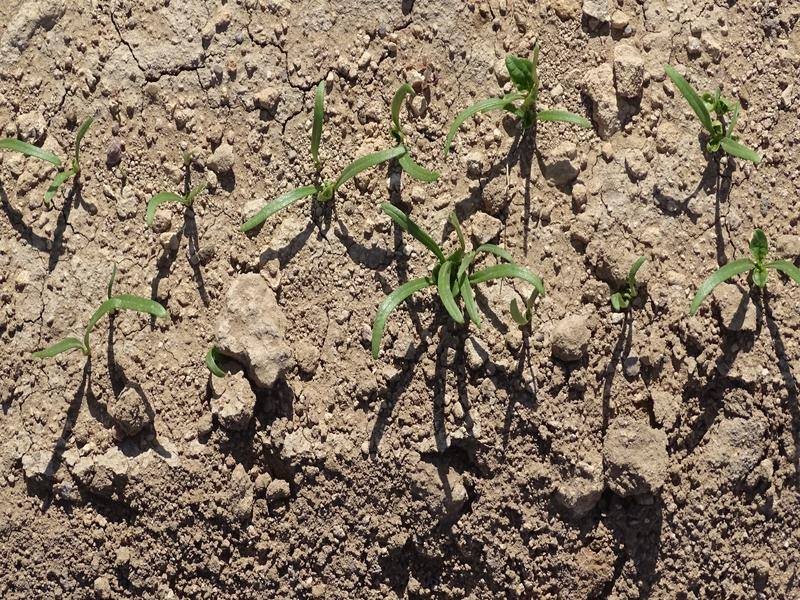Espinaca: (245, 86, 439, 230), (371, 203, 545, 348), (445, 62, 589, 150), (663, 57, 759, 166), (33, 296, 164, 367), (693, 229, 800, 314), (5, 118, 100, 201), (140, 181, 207, 220)
